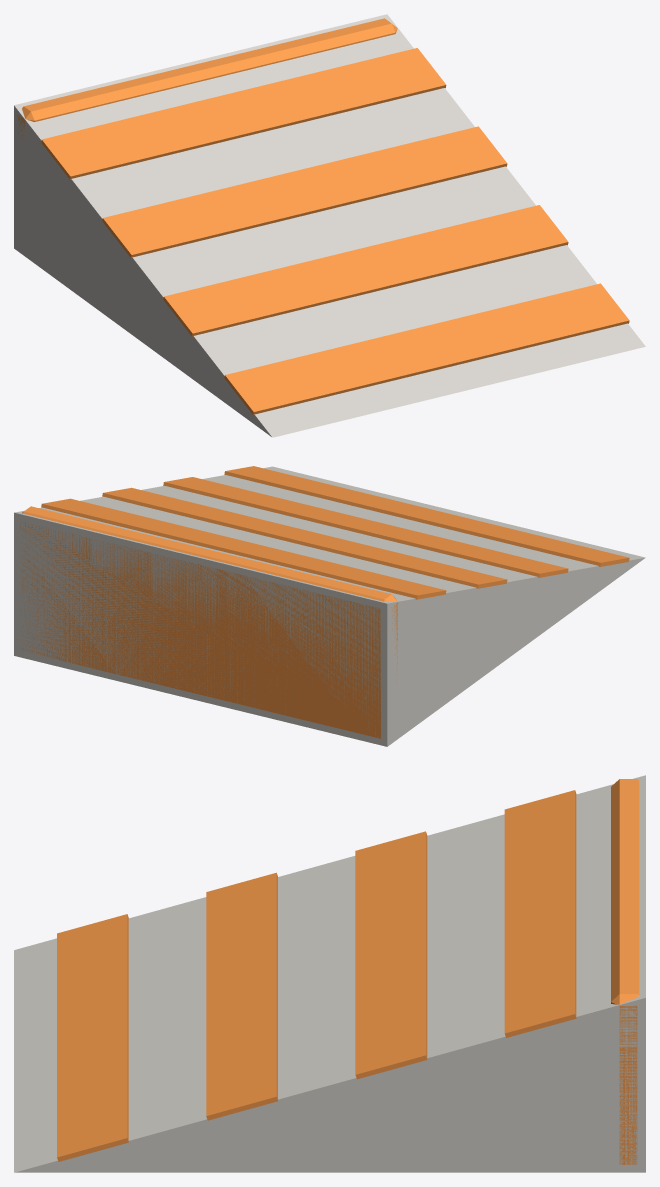
Rendered from prop_ramp.glb.
The picture shows the model from 3 angles, top to bottom: view 1: azimuth 30°, elevation 25°; view 2: azimuth 150°, elevation 25°; view 3: azimuth 270°, elevation 25°; orthographic projection. The views are drawn at different scales.
Visible parts, largest first — view 1: prop_ramp; view 2: prop_ramp; view 3: prop_ramp.
Boxes of the visible parts, x1,y1,x2,y2 form: prop_ramp: (14, 14, 645, 437); prop_ramp: (14, 466, 645, 746); prop_ramp: (14, 775, 645, 1172).
Size of the model in its own units: 3.02 by 1.1 by 3.6.
